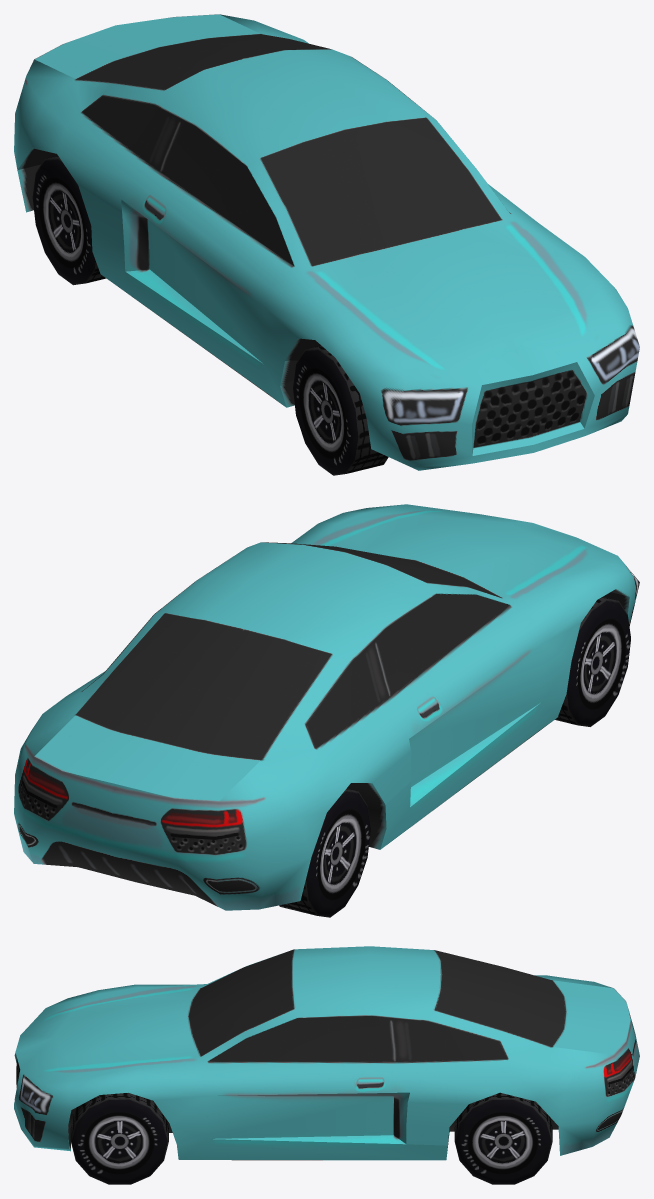
Rendered from LuxSport.fbx.
3 renders of one model, top to bottom at view 1: azimuth 30°, elevation 25°; view 2: azimuth 150°, elevation 25°; view 3: azimuth 270°, elevation 25°, orthographic. The views are drawn at different scales.
Visible parts, largest first — view 1: LuxSportBody, WheelFR, WheelBR; view 2: LuxSportBody, WheelFR, WheelBR; view 3: LuxSportBody, WheelFL, WheelBL.
Boxes of the visible parts, x1,y1,x2,y2 form: LuxSportBody: (14, 14, 639, 470); WheelFR: (292, 345, 388, 475); WheelBR: (32, 155, 105, 285); LuxSportBody: (14, 504, 639, 910); WheelFR: (555, 597, 630, 726); WheelBR: (279, 788, 370, 917); LuxSportBody: (14, 946, 639, 1160); WheelFL: (70, 1093, 168, 1184); WheelBL: (454, 1092, 552, 1184).
Bounding box in the file's own units: 196 × 145 × 490.
